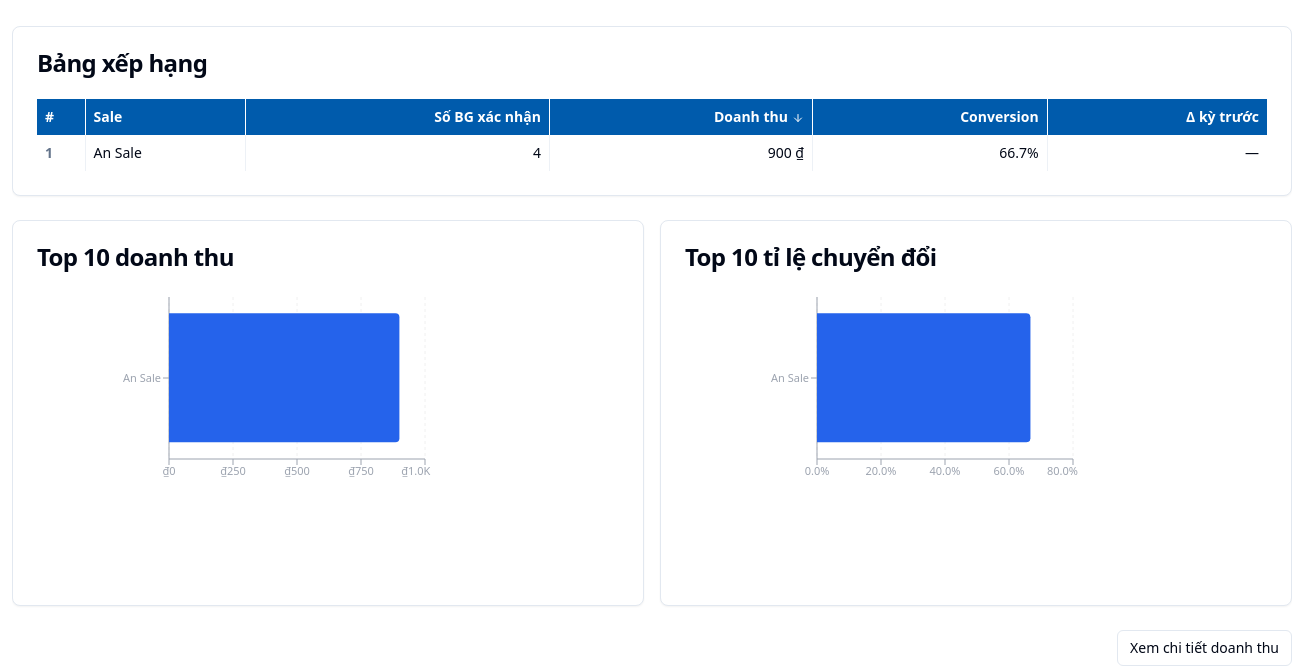
Scenario: SalesPerformancePage (Hiệu suất sale report) › a row opens the revenue report of that sale and passes its own url as state.from
What coordinates should you click on to do the following:
click the text "An Sale"
I would click on:
 (165, 153)
Its box is [85,135,246,171].
(page scrolled)
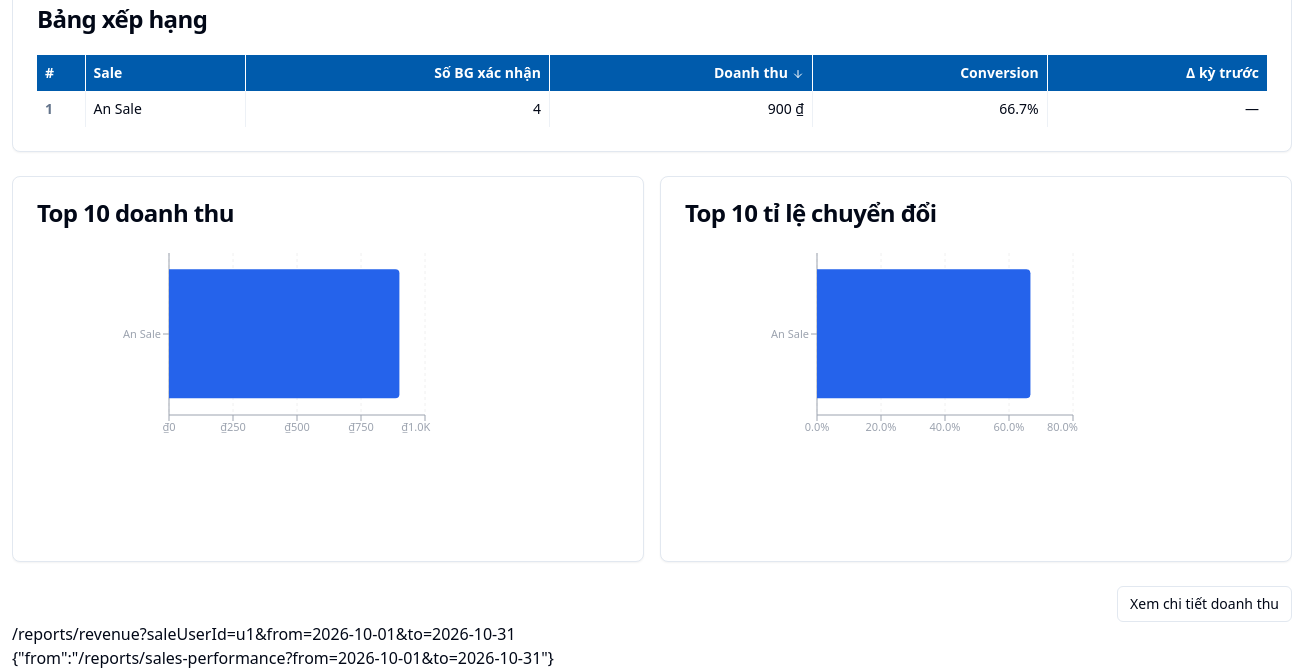
Check: the text with test id "location" reads "/reports/revenue?saleUserId=u1&from=2026-10-01&to=2026-10-31", box [12,623,516,645]
